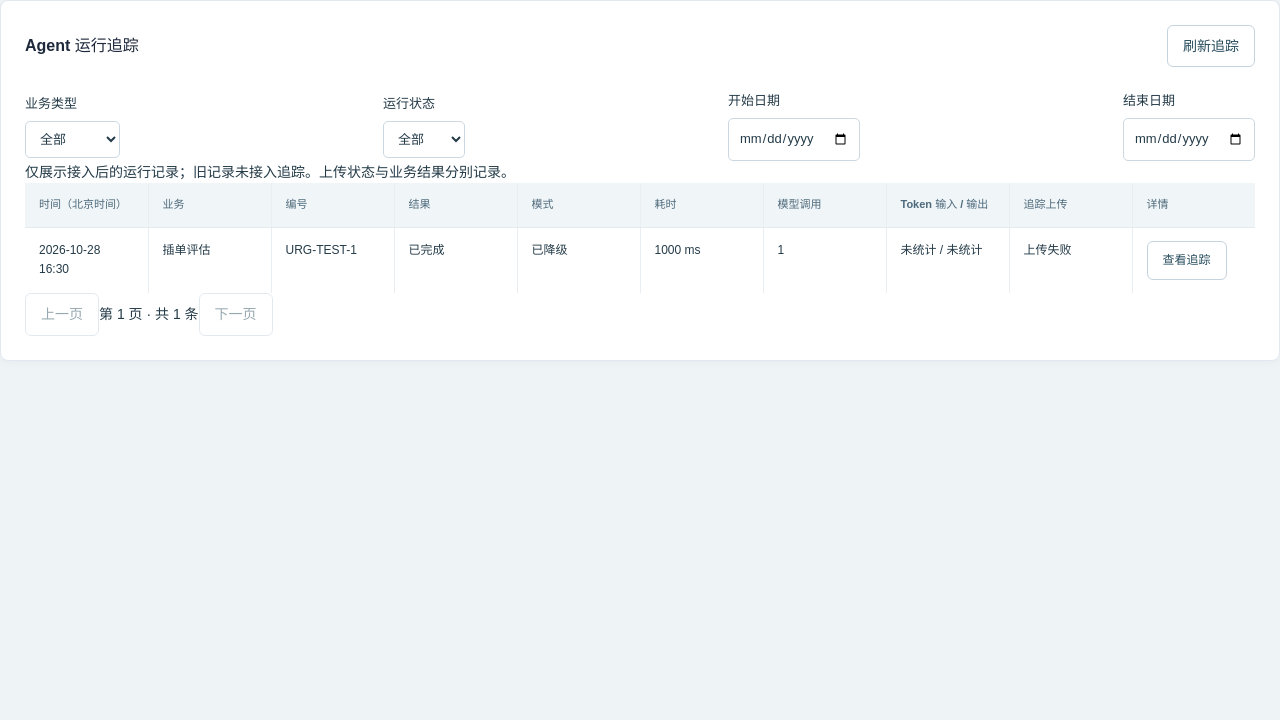
Scenario: shows business success separately from export failure and renders sanitized node details
Expected: the text "URG-TEST-1" is shown, [271,228,394,293]
Expected: the text "2026-10-28 16:30" is shown, [25,228,148,293]
Click the button "查看追踪". click: coordinates (1186, 261)
box: [1146,241,1226,280]
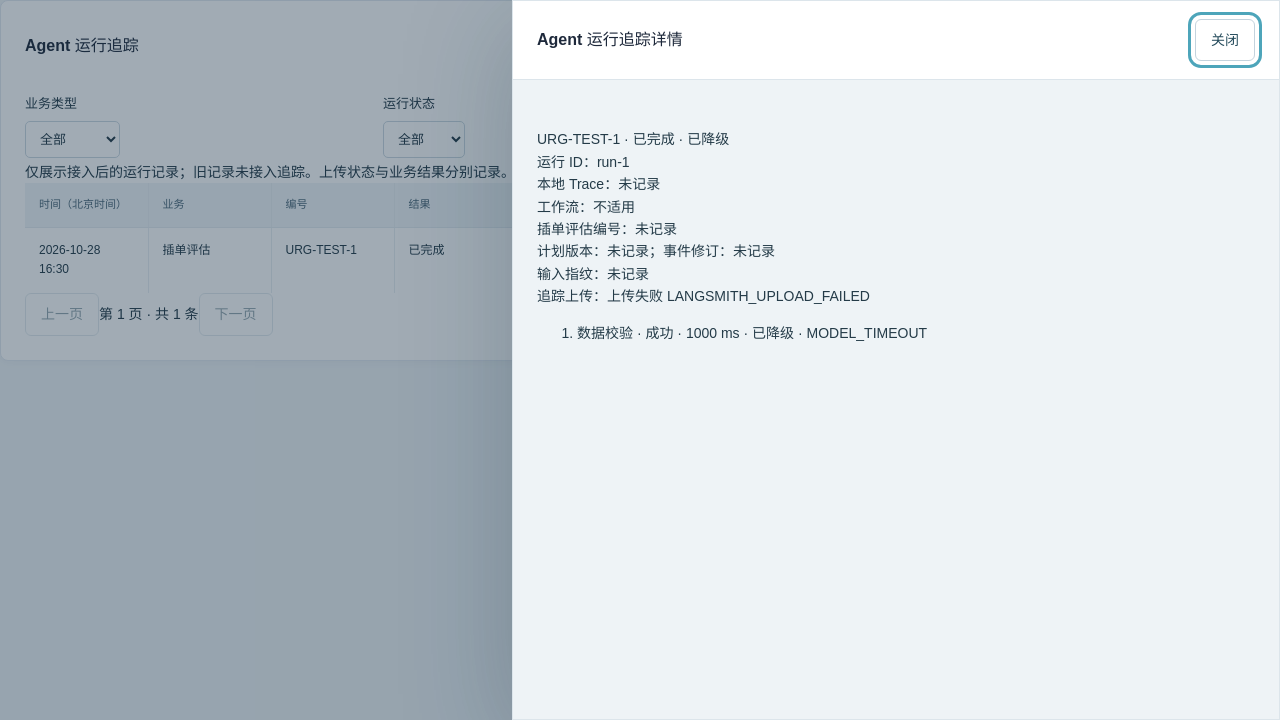
Now the list item "数据校验 · 成功 · 1000 ms · 已降级 · MODEL_TIMEOUT" is shown, box [577,324,927,340]
Now the list named "执行节点" shows "数据校验", box [577,324,633,340]
